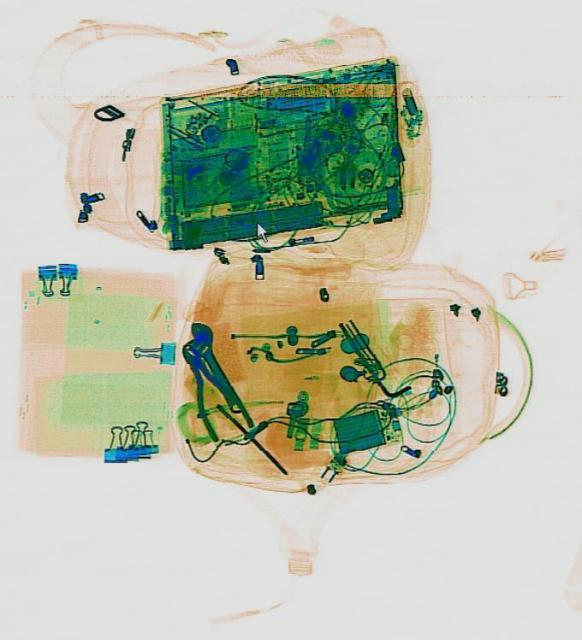Pliers: (165, 333, 253, 445)
Wrench: (175, 314, 249, 418)
